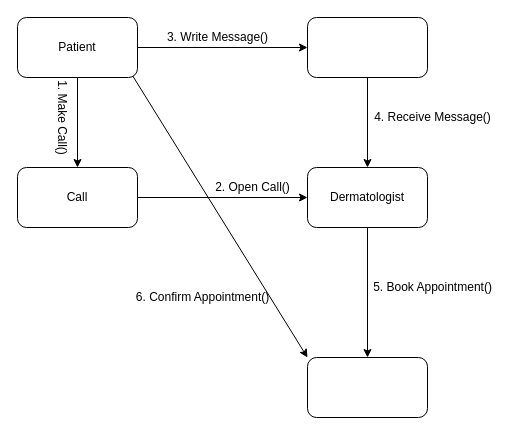
This 515x435 diagram has some shape labels left out. Each missing label, with the centre of its shape:
"Appointment" goes at [367,387].
"Message" goes at [367,47].
